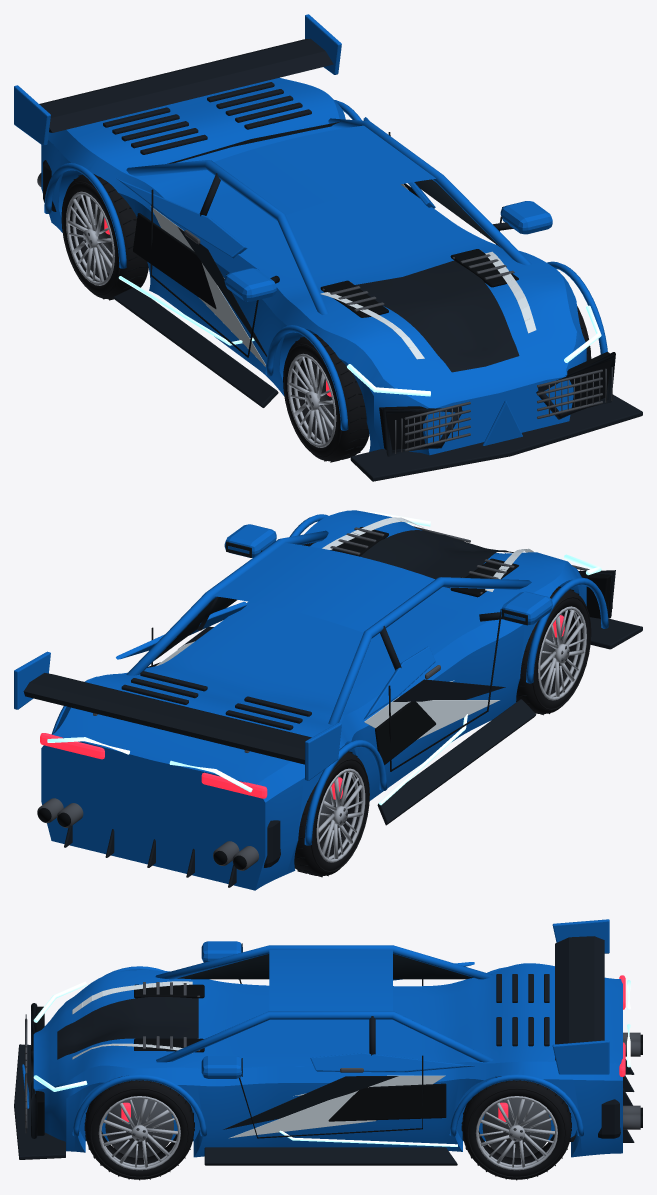
Rendered from volt-viper.glb.
3 renders of one model, top to bottom at view 1: azimuth 30°, elevation 25°; view 2: azimuth 150°, elevation 25°; view 3: azimuth 270°, elevation 25°, orthographic. The views are drawn at different scales.
Visible parts, largest first — view 1: body, wheel_fl_spin_mesh, wheel_rl_spin_mesh; view 2: body, wheel_rl_spin_mesh, wheel_fl_spin_mesh; view 3: body, wheel_fr_spin_mesh, wheel_rr_spin_mesh.
Part boxes in pixels (left/top/right/bottom): body: left=14, top=14, right=642, bottom=481; wheel_fl_spin_mesh: left=283, top=334, right=369, bottom=462; wheel_rl_spin_mesh: left=61, top=174, right=148, bottom=300; body: left=14, top=510, right=642, bottom=890; wheel_rl_spin_mesh: left=294, top=751, right=369, bottom=877; wheel_fl_spin_mesh: left=516, top=586, right=591, bottom=715; body: left=14, top=919, right=642, bottom=1165; wheel_fr_spin_mesh: left=84, top=1076, right=194, bottom=1180; wheel_rr_spin_mesh: left=461, top=1076, right=571, bottom=1180.
Size of the model in its own units: 2.4 by 1.34 by 4.96.
